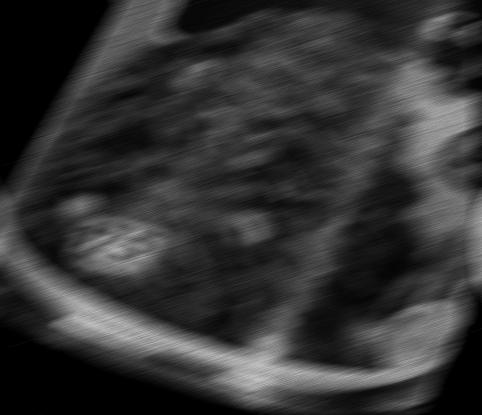argentina corned beef: (0, 0, 482, 415)
egg: (474, 95, 482, 397)
